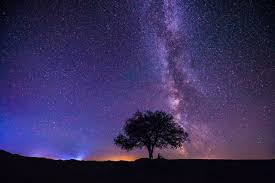sky: (1, 1, 275, 158)
tree: (119, 109, 187, 160)
